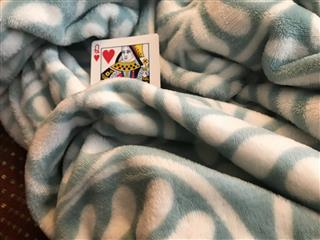QueenOfHearts: (89, 33, 160, 86)
